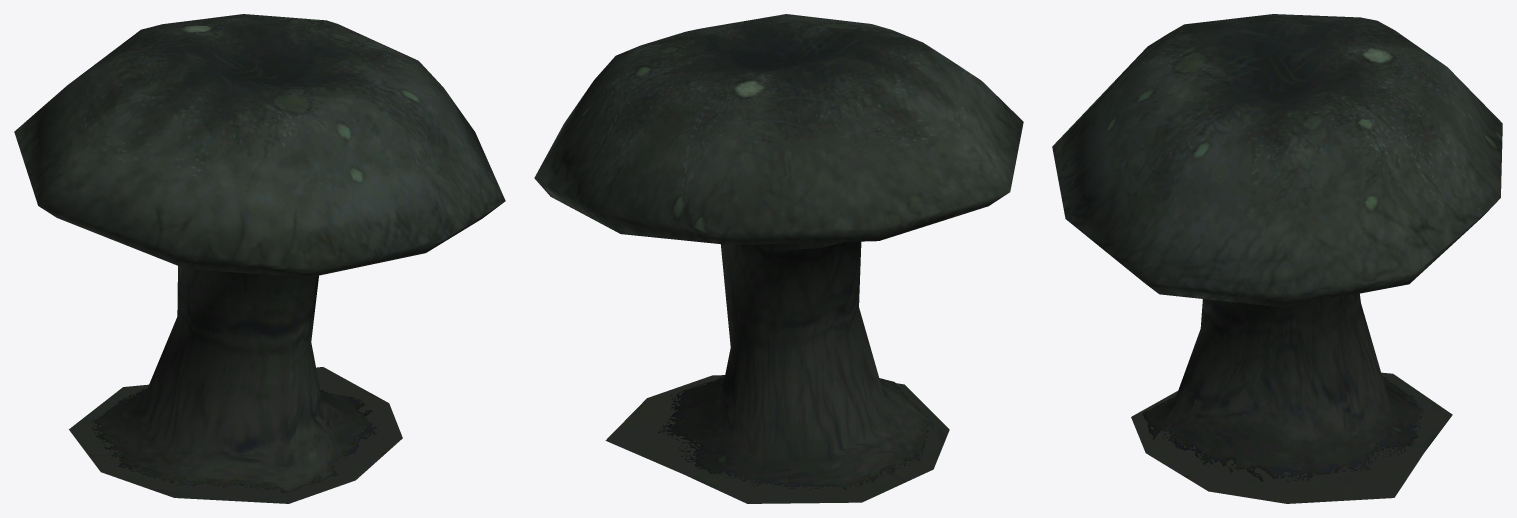
Rendered from sewer_fungi2.dae.
The picture shows the model from 3 angles, left to right: view 1: azimuth 30°, elevation 25°; view 2: azimuth 150°, elevation 25°; view 3: azimuth 270°, elevation 25°; orthographic projection.
Parts seen in each view (by area): view 1: Group2; view 2: Group2; view 3: Group2.
Boxes of the visible parts, x1,y1,x2,y2 form: Group2: (14,14,505,503); Group2: (534,14,1023,503); Group2: (1052,14,1502,503).
Size of the model in its own units: 0.4211 by 0.3535 by 0.3733.
